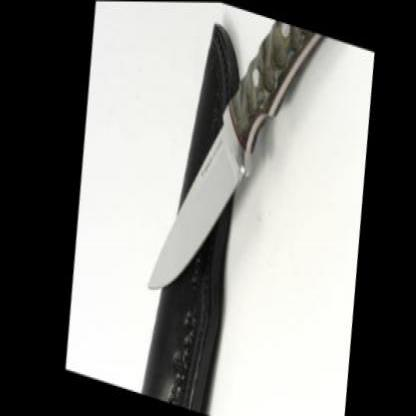knife: (128, 83, 267, 321)
